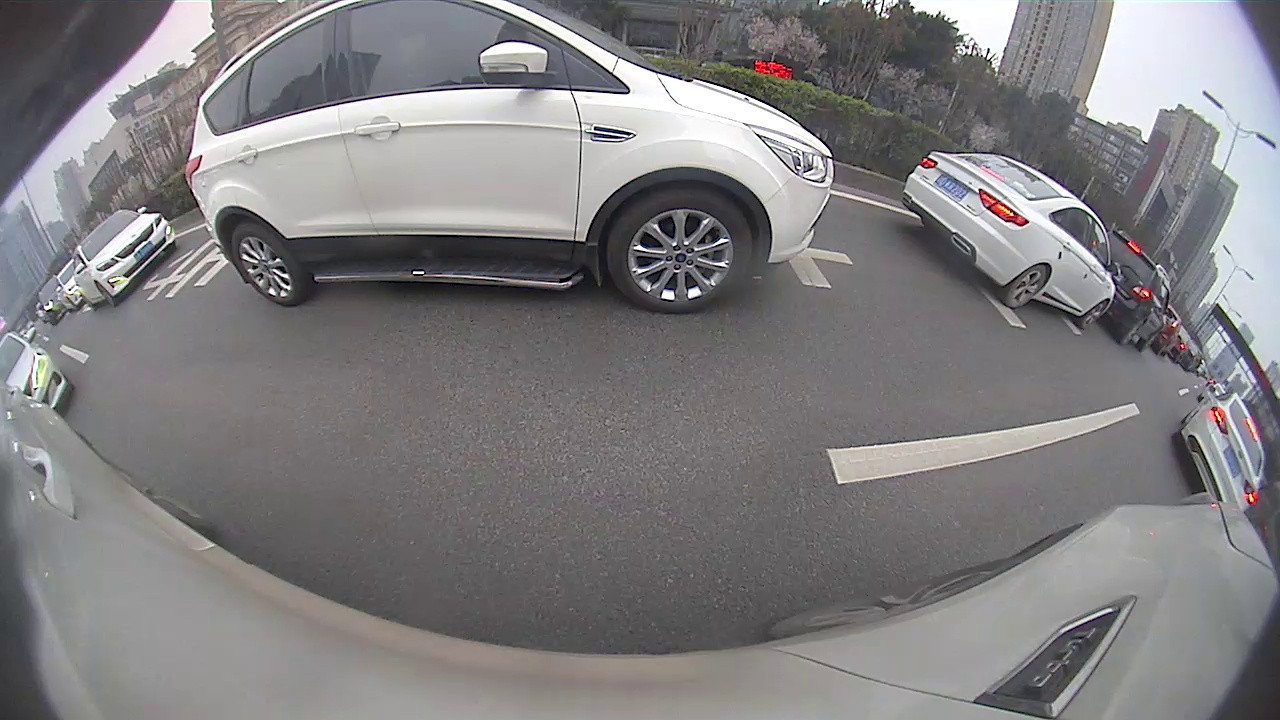car: (185, 1, 836, 316), (904, 149, 1117, 332), (1180, 389, 1268, 514), (73, 209, 176, 313), (1101, 228, 1169, 347), (1, 329, 76, 415)
front: (605, 188, 754, 315), (1078, 299, 1109, 333), (97, 281, 120, 308)
rear: (232, 224, 314, 308), (1004, 265, 1050, 312)
